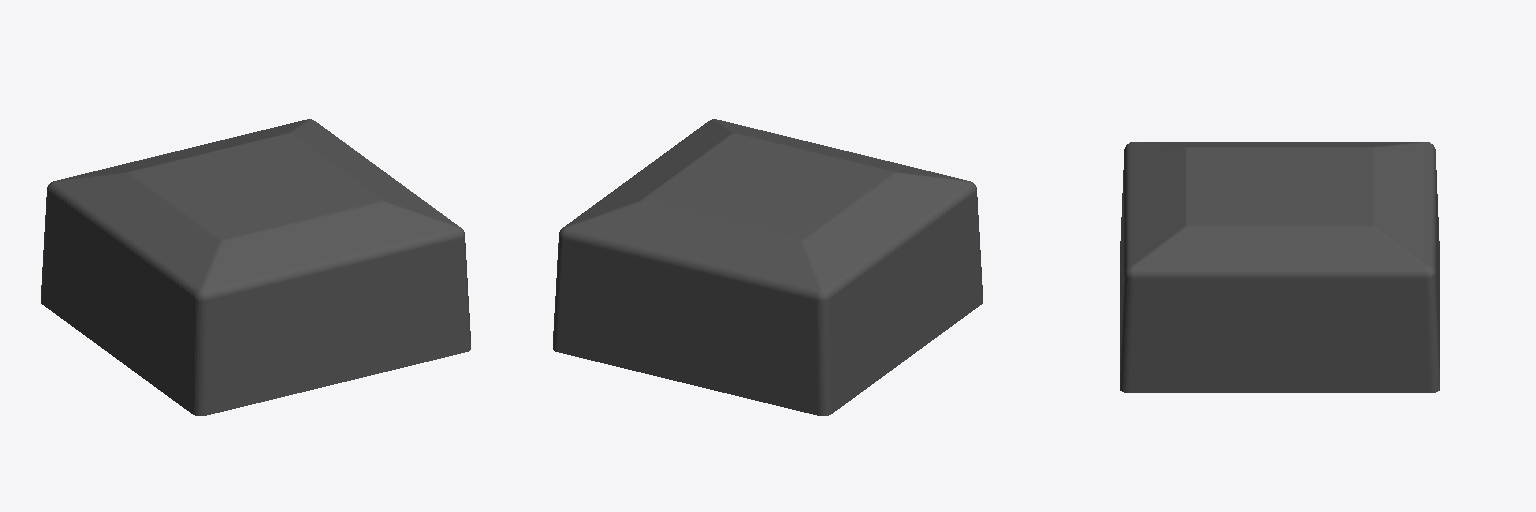
The model's file is 60x60_outer_cap2.obj.
The picture shows the model from 3 angles: view 1: azimuth 30°, elevation 25°; view 2: azimuth 150°, elevation 25°; view 3: azimuth 270°, elevation 25°; orthographic projection.
Visible parts, largest first — view 1: 60x60_outer_cap2; view 2: 60x60_outer_cap2; view 3: 60x60_outer_cap2.
Boxes of the visible parts, x1=… form: 60x60_outer_cap2: x1=41, y1=119, x2=470, y2=415; 60x60_outer_cap2: x1=553, y1=119, x2=982, y2=415; 60x60_outer_cap2: x1=1120, y1=142, x2=1439, y2=392.
Size of the model in its own units: 65 by 31 by 65.